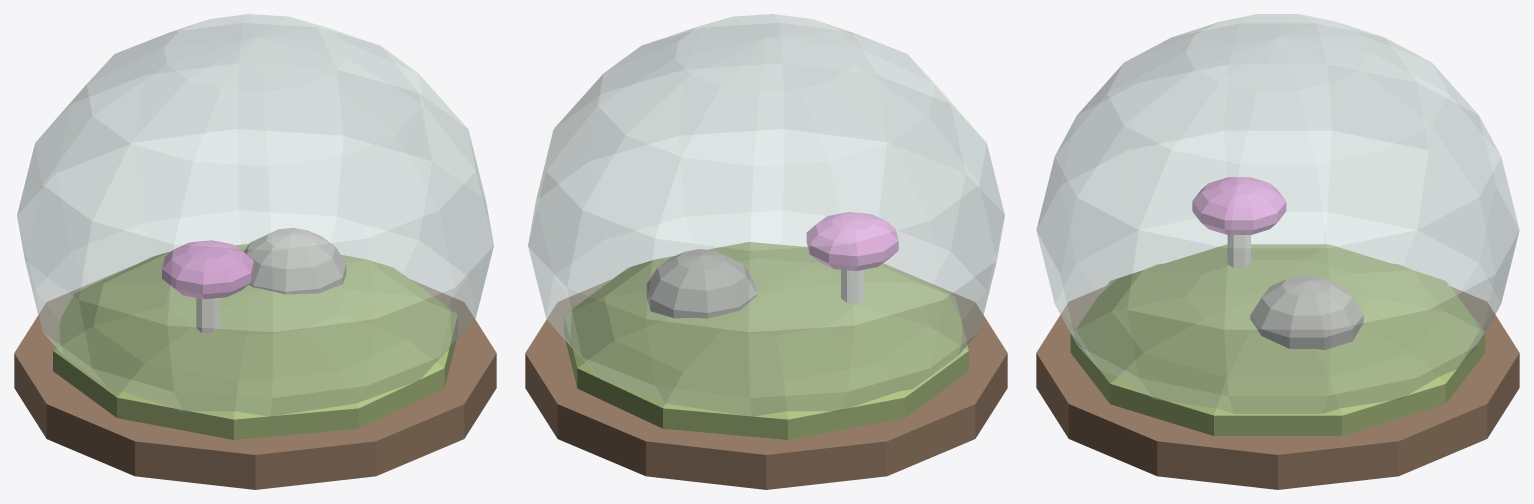
The model's file is MossTerrarium.fbx.
The picture shows the model from 3 angles, left to right: view 1: azimuth 30°, elevation 25°; view 2: azimuth 150°, elevation 25°; view 3: azimuth 270°, elevation 25°; orthographic projection.
Parts seen in each view (by area): view 1: Prop_MossTerrarium; view 2: Prop_MossTerrarium; view 3: Prop_MossTerrarium.
Boxes of the visible parts, bbox=[...] form: Prop_MossTerrarium: bbox=[14, 14, 496, 489]; Prop_MossTerrarium: bbox=[525, 14, 1007, 489]; Prop_MossTerrarium: bbox=[1036, 14, 1519, 489].
Bounding box in the file's own units: 0.5 × 0.44 × 0.5.
